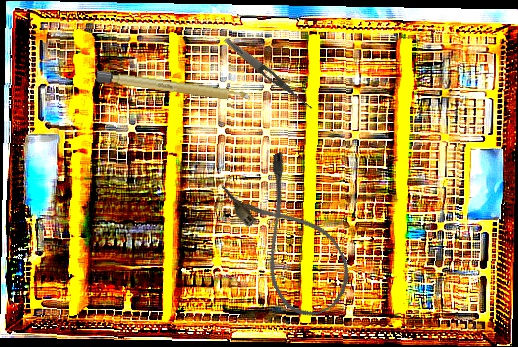Cannula: (218, 149, 363, 327)
Dressing Forceps: (221, 35, 317, 113)
Scalpel Handle: (95, 70, 252, 104)
